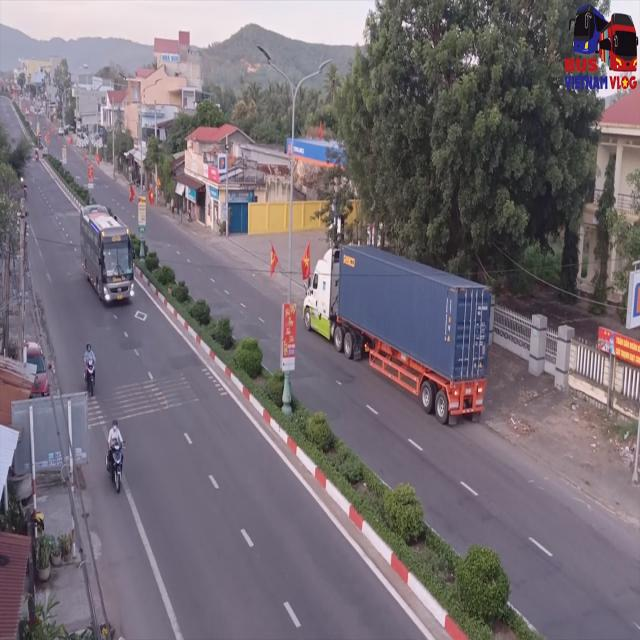bus: (78, 208, 133, 307)
motorbike: (106, 422, 125, 496), (82, 343, 99, 397)
truck: (302, 242, 491, 429)
